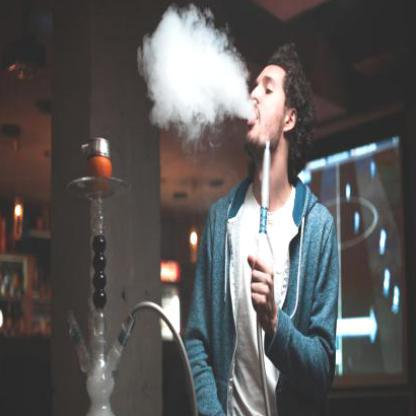person: (226, 47, 328, 416)
smoke: (138, 7, 253, 136)
